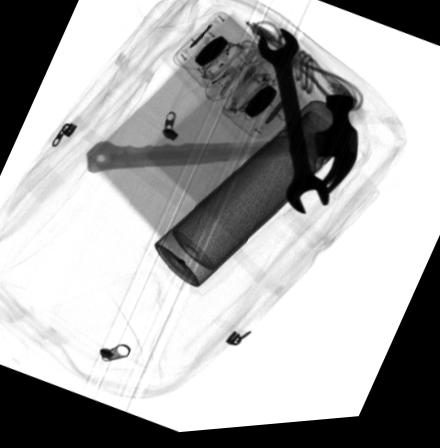Hammer: (86, 97, 358, 203)
Wrench: (257, 33, 329, 220)
